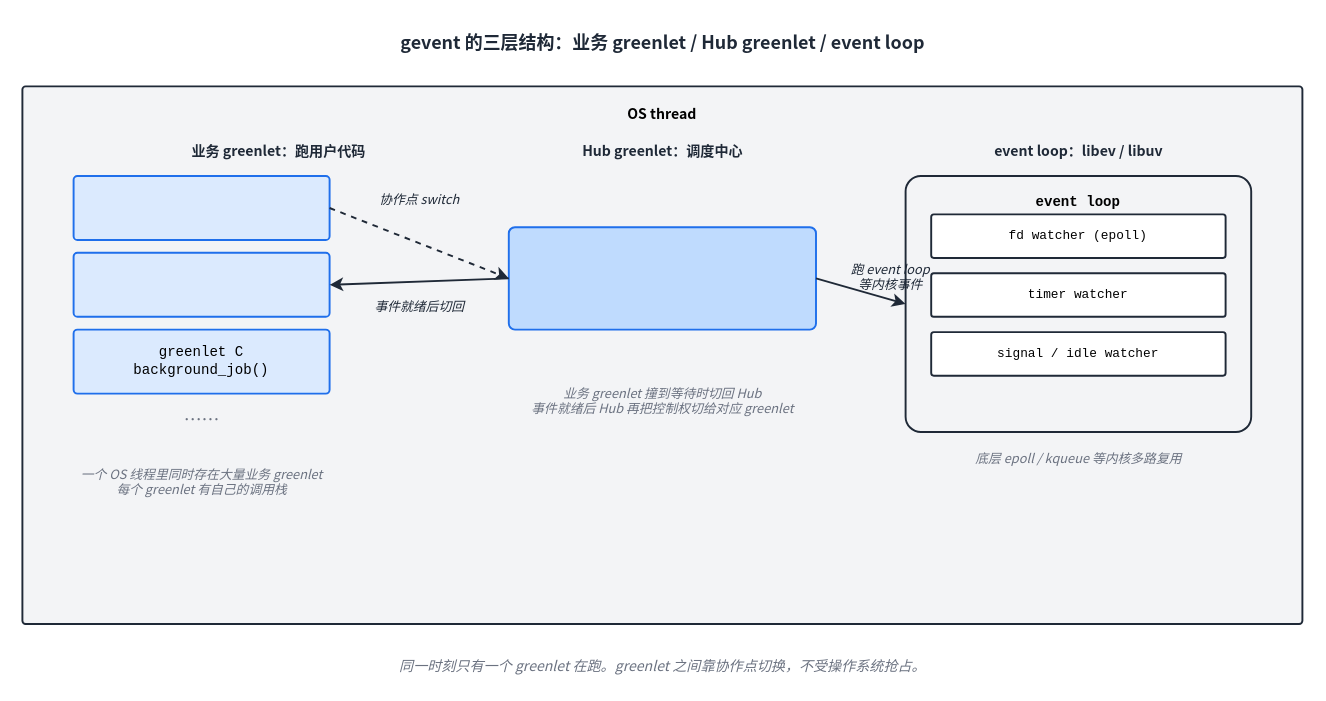
Some shapes in this 1326 by 701 pixel diagram are drawn without their labels. The shapes that lost their labels are listed below. From the top down, each one's box as (x1, y1, x2, y2) in pixels, then its label:
(72, 174, 330, 240): greenlet A handle_request()
(72, 251, 330, 317): greenlet B handle_request()
(507, 226, 816, 330): Hub greenlet Hub.run()
